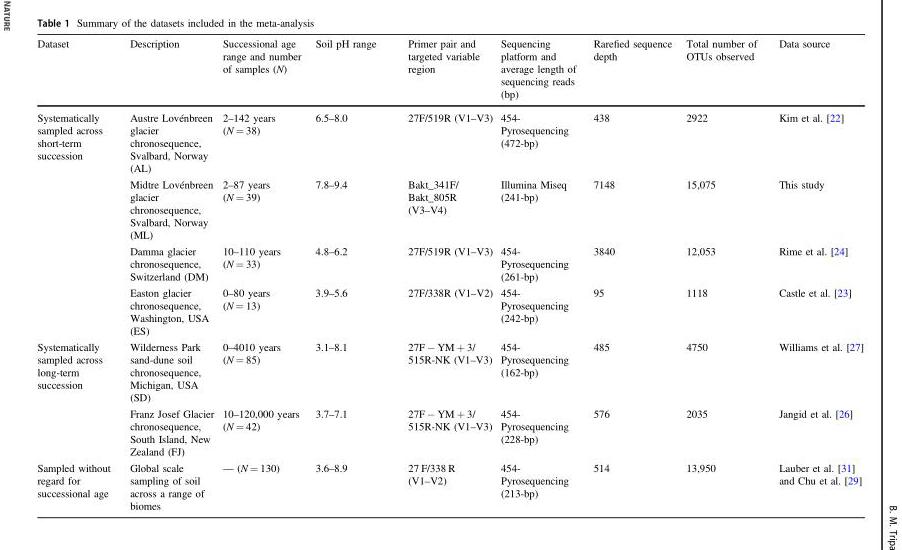table: (37, 36, 864, 510)
table column: (392, 36, 496, 510), (120, 36, 218, 510), (768, 36, 864, 510), (585, 36, 679, 510), (218, 36, 308, 510), (496, 36, 585, 510), (679, 36, 768, 510), (308, 36, 392, 510), (37, 36, 120, 510)
table column header: (37, 36, 864, 105)
table row: (37, 105, 864, 175), (37, 36, 864, 105), (37, 175, 864, 242), (37, 337, 864, 404), (37, 283, 864, 337), (37, 404, 864, 458), (37, 458, 864, 510), (37, 242, 864, 283)
table spanning cell: (37, 105, 120, 337), (37, 337, 120, 458)
